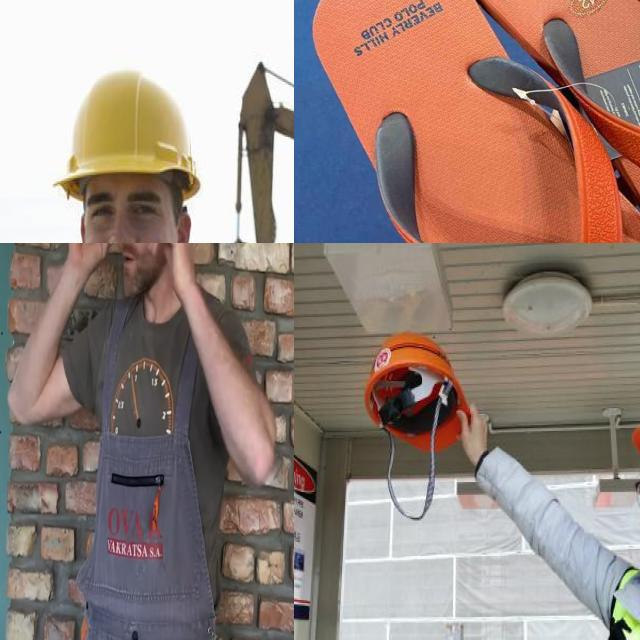Ear-protection: (116, 243, 191, 299)
No_Ear-Protection: (171, 198, 195, 243)
No_Glasses: (80, 184, 168, 238)
Sandals: (294, 0, 640, 243)
face_nomask: (81, 171, 185, 243)
head_helmet: (61, 68, 202, 184), (356, 330, 465, 445)
person: (12, 50, 287, 243)
